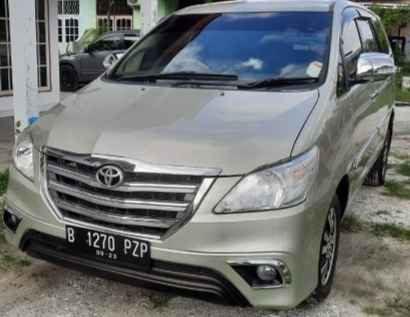plate: (59, 220, 152, 272)
